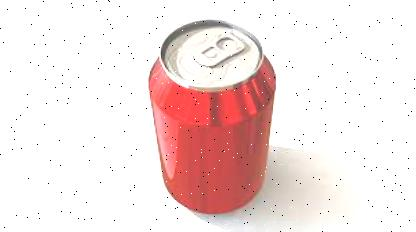Can: (147, 19, 277, 215)
